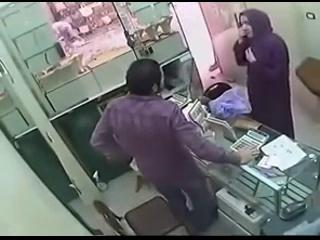Normal: (89, 58, 260, 232), (233, 9, 295, 140)
